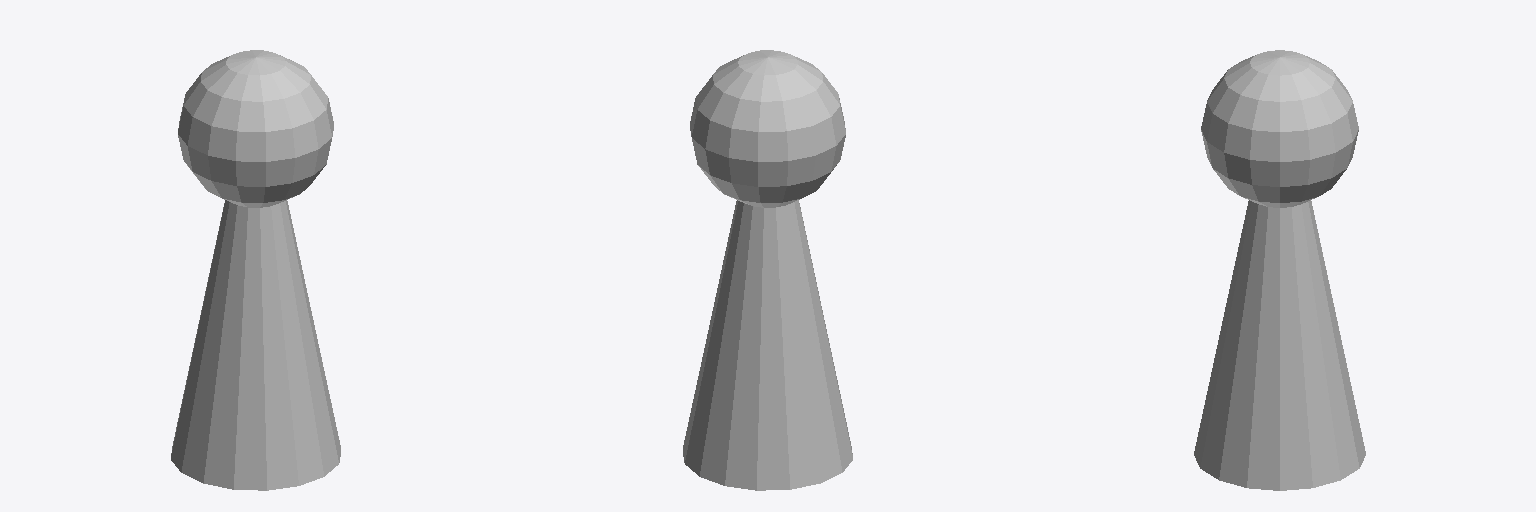
The model's file is player.obj.
The picture shows the model from 3 angles: view 1: azimuth 30°, elevation 25°; view 2: azimuth 150°, elevation 25°; view 3: azimuth 270°, elevation 25°; orthographic projection.
Visible parts, largest first — view 1: Sphere_Sphere.002; view 2: Sphere_Sphere.002; view 3: Sphere_Sphere.002.
Boxes of the visible parts, x1,y1,x2,y2 form: Sphere_Sphere.002: [171, 50, 340, 490]; Sphere_Sphere.002: [683, 50, 852, 490]; Sphere_Sphere.002: [1194, 50, 1365, 490].
Size of the model in its own units: 2.18 by 5.54 by 2.18.